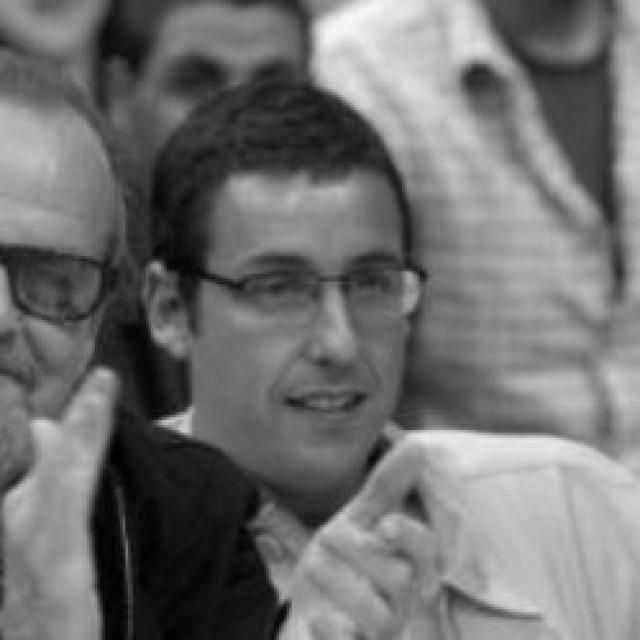fake: (0, 237, 107, 325)
real: (152, 140, 446, 472), (0, 54, 112, 502), (219, 259, 425, 315)
